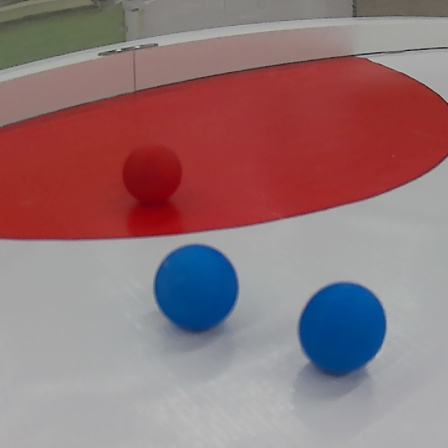blue: (147, 242, 240, 336), (297, 281, 388, 375)
red: (123, 145, 180, 205)
red_base: (1, 60, 448, 241)
